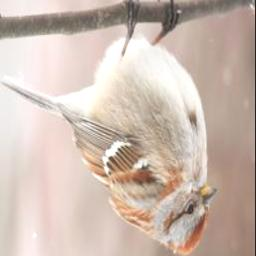Sparrow: (1, 0, 216, 256)
